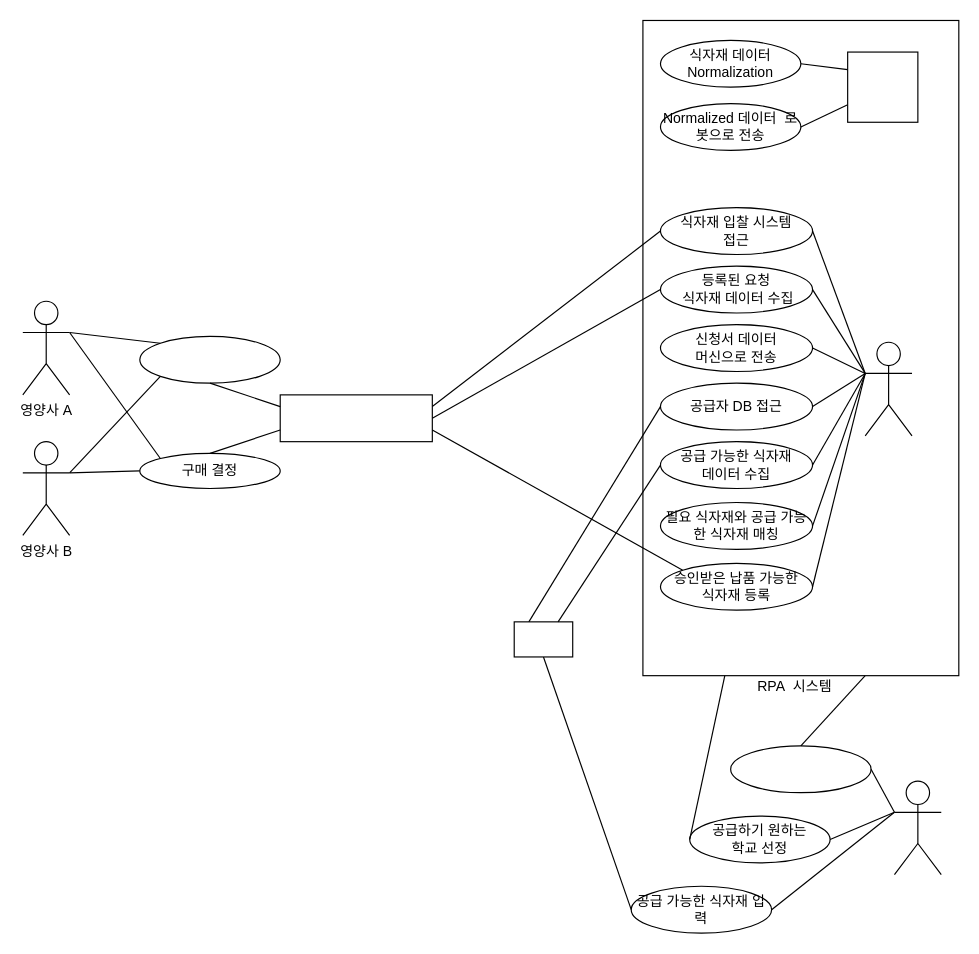
Some shapes in this 979 by 954 pixel diagram are drawn without their labels. Each missing label, with the centre of its shape:
DB: pixel 543 639
공급자: pixel 917 827
다음달 필요 식자재 등록: pixel 209 359
로봇: pixel 888 388
매칭 결과 판단: pixel 800 769
머신러닝 시스템: pixel 882 86
식자재 입찰 시스템: pixel 355 418
